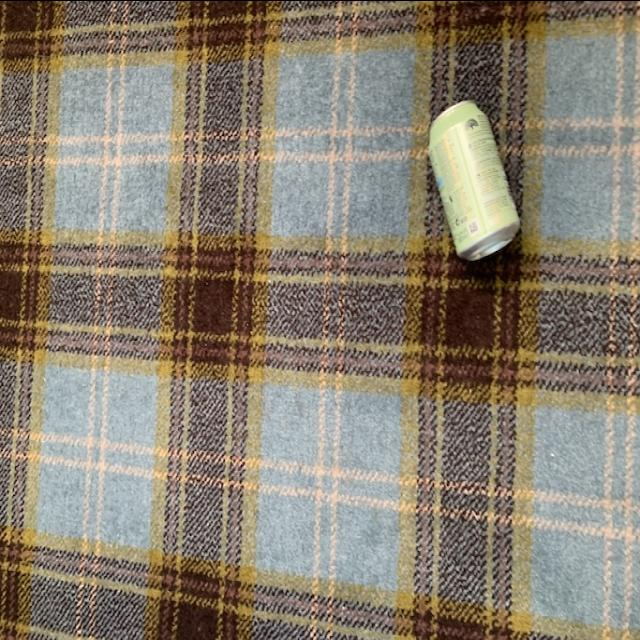litter: (424, 90, 526, 271)
